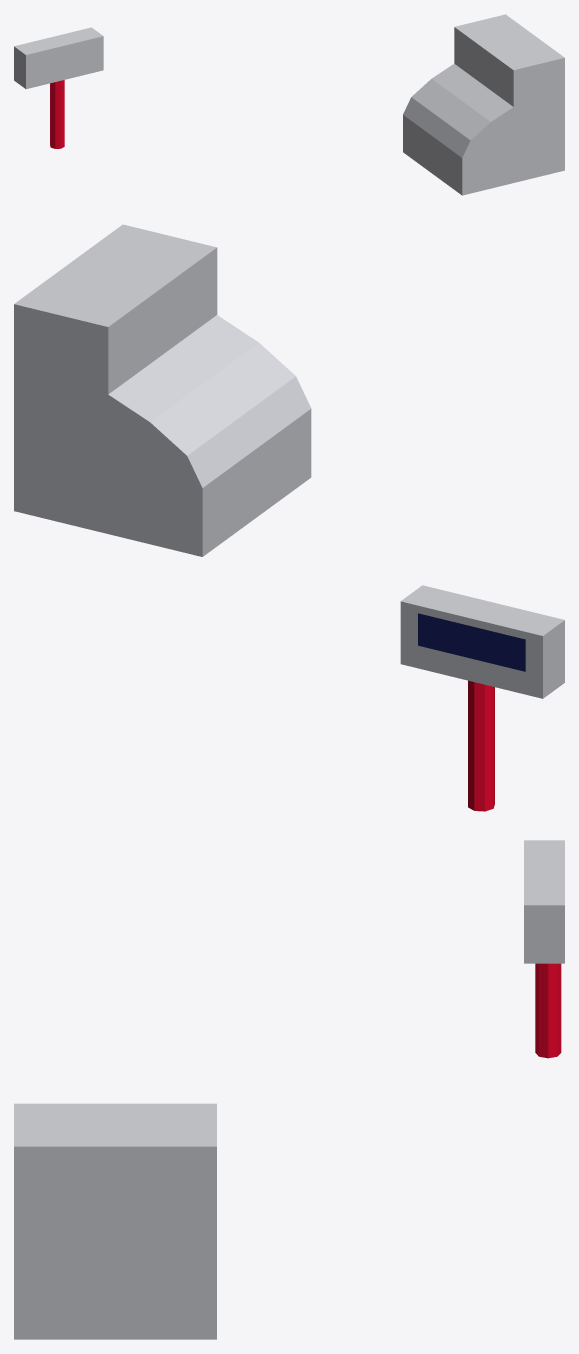
File: caisse.fbx
3 renders of one model, top to bottom at view 1: azimuth 30°, elevation 25°; view 2: azimuth 150°, elevation 25°; view 3: azimuth 270°, elevation 25°, orthographic. The views are drawn at different scales.
Visible parts, largest first — view 1: Cube.011; view 2: Cube.011; view 3: Cube.011.
Boxes of the visible parts, box(x1,y1,x2,y2) form: Cube.011: box(14, 14, 564, 195); Cube.011: box(14, 224, 564, 811); Cube.011: box(14, 840, 564, 1339).
Size of the model in its own units: 315 by 225 by 90.18.
